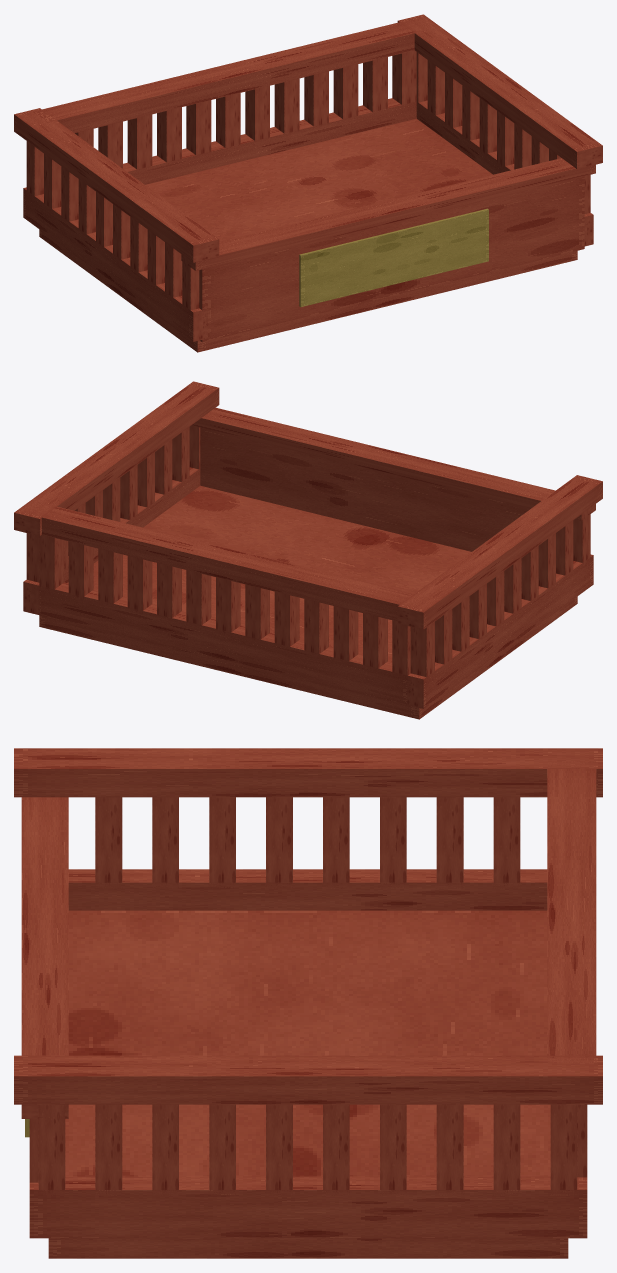
The model's file is retro_bandeja.glb.
3 views of the same model, one above another, from view 1: azimuth 30°, elevation 25°; view 2: azimuth 150°, elevation 25°; view 3: azimuth 270°, elevation 25° (orthographic). The views are drawn at different scales.
Parts seen in each view (by area): view 1: retro_bandeja; view 2: retro_bandeja; view 3: retro_bandeja.
Part boxes in pixels (x1,y1,x2,y2): retro_bandeja: [14, 14, 602, 352]; retro_bandeja: [14, 381, 602, 719]; retro_bandeja: [14, 748, 602, 1258].
Size of the model in its own units: 0.348 by 0.096 by 0.264.
2 materials, 2 textured.
